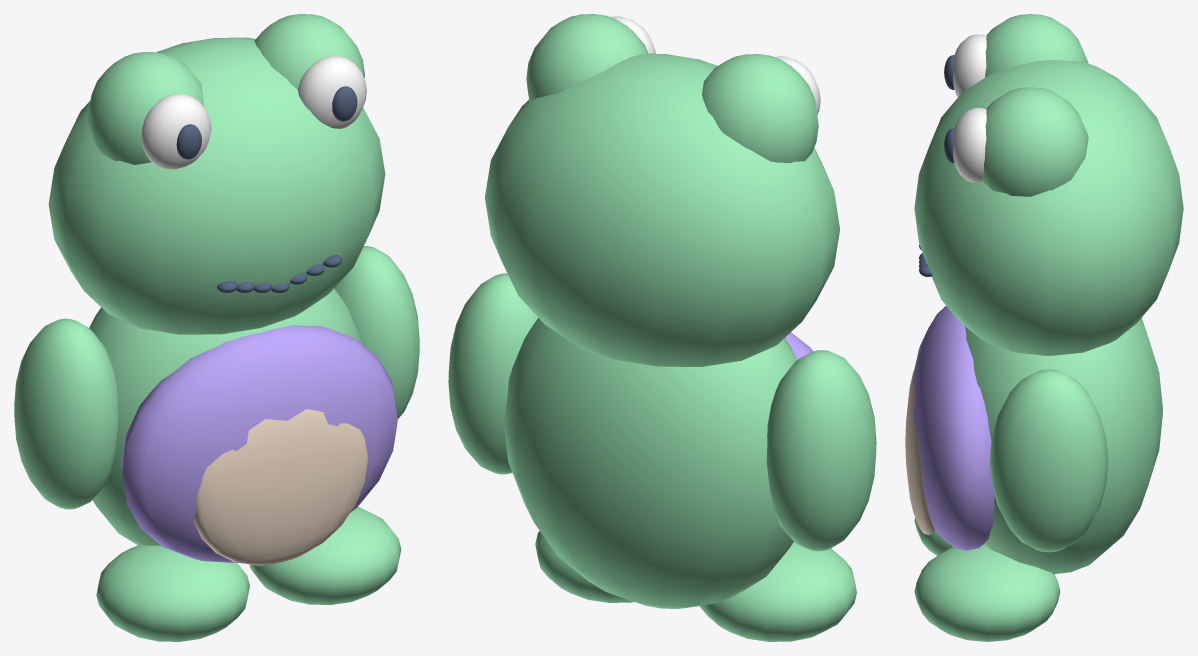
File: hero-frog-0-3.glb
The picture shows the model from 3 angles, left to right: view 1: azimuth 30°, elevation 25°; view 2: azimuth 150°, elevation 25°; view 3: azimuth 270°, elevation 25°; orthographic projection. The views are drawn at different scales.
Parts seen in each view (by area): view 1: head, jacket, hand (×2), foot (×2), belly, eye_bulb (×2), body, eye_white (×2), eye_pupil (×2); view 2: head, body, hand (×2), eye_bulb (×2), foot (×2); view 3: head, body, hand, jacket, eye_bulb (×2), foot (×2), eye_white (×2), belly.
Part boxes in pixels (x1=…): head: x1=48, y1=37, x2=385, y2=334; jacket: x1=121, y1=325, x2=397, y2=562; hand (×2): x1=14, y1=246, x2=419, y2=509; foot (×2): x1=96, y1=506, x2=401, y2=641; belly: x1=193, y1=409, x2=368, y2=565; eye_bulb (×2): x1=88, y1=14, x2=364, y2=164; body: x1=89, y1=288, x2=361, y2=545; eye_white (×2): x1=141, y1=56, x2=366, y2=169; eye_pupil (×2): x1=176, y1=86, x2=357, y2=159; head: x1=485, y1=53, x2=839, y2=366; body: x1=504, y1=318, x2=797, y2=608; hand (×2): x1=448, y1=273, x2=876, y2=551; eye_bulb (×2): x1=526, y1=14, x2=818, y2=162; foot (×2): x1=535, y1=531, x2=856, y2=641; head: x1=914, y1=60, x2=1183, y2=355; body: x1=965, y1=318, x2=1162, y2=574; hand: x1=989, y1=369, x2=1108, y2=552; jacket: x1=912, y1=306, x2=994, y2=550; eye_bulb (×2): x1=982, y1=14, x2=1088, y2=196; foot (×2): x1=914, y1=518, x2=1060, y2=641; eye_white (×2): x1=953, y1=34, x2=986, y2=182; belly: x1=905, y1=367, x2=934, y2=534.
Size of the model in its own units: 1.9 by 2.61 by 1.22.
